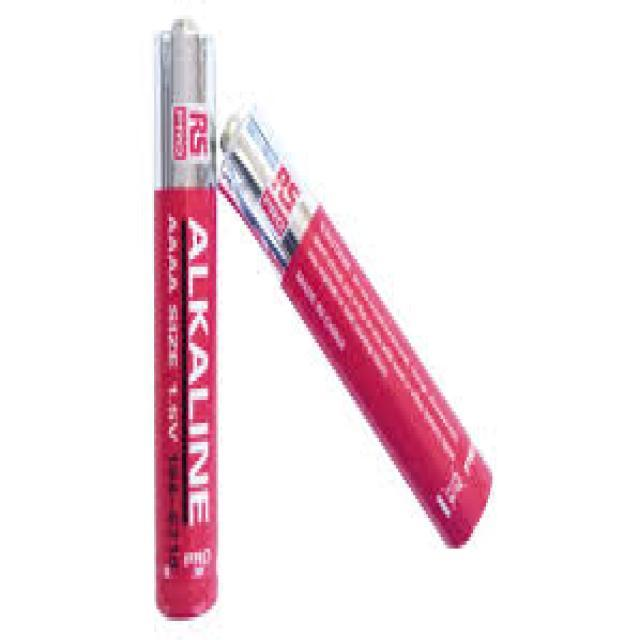AAA: (216, 97, 493, 549), (151, 14, 219, 619)
